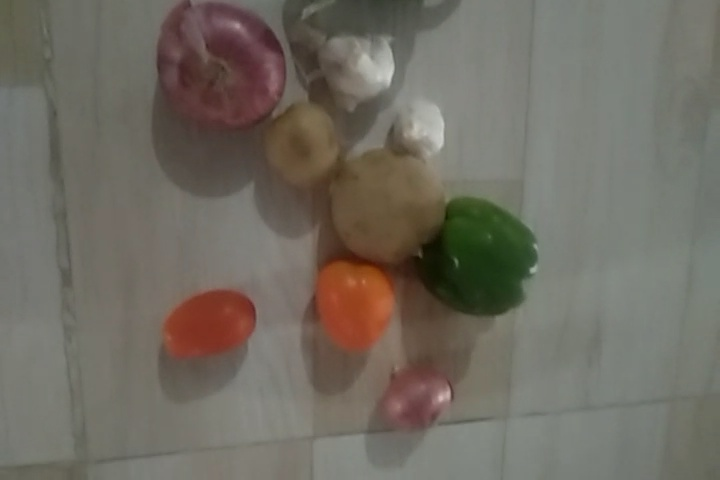capsicum: (429, 189, 533, 315)
garlic: (392, 96, 456, 167), (329, 40, 396, 104)
onion: (377, 363, 457, 430)
potato: (330, 155, 434, 255), (266, 105, 348, 185)
tomato: (152, 292, 257, 371), (316, 255, 380, 355)
